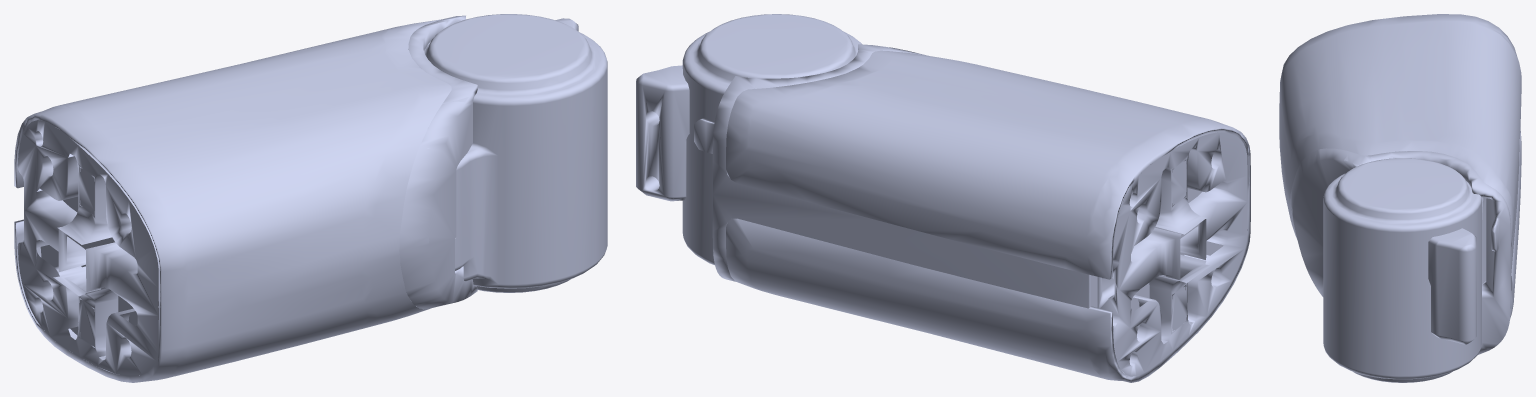
Rendered from right_PP_visual_cad1ee.glb.
3 views of the same model, side by side, from view 1: azimuth 30°, elevation 25°; view 2: azimuth 150°, elevation 25°; view 3: azimuth 270°, elevation 25° (orthographic). The views are drawn at different scales.
Visible parts, largest first — view 1: right_PP_visual_0; view 2: right_PP_visual_0; view 3: right_PP_visual_0.
Boxes of the visible parts, bbox=[...] form: right_PP_visual_0: bbox=[14, 14, 607, 382]; right_PP_visual_0: bbox=[636, 14, 1250, 382]; right_PP_visual_0: bbox=[1279, 14, 1521, 382].
Size of the model in its own units: 0.0463 by 0.0187 by 0.022.
